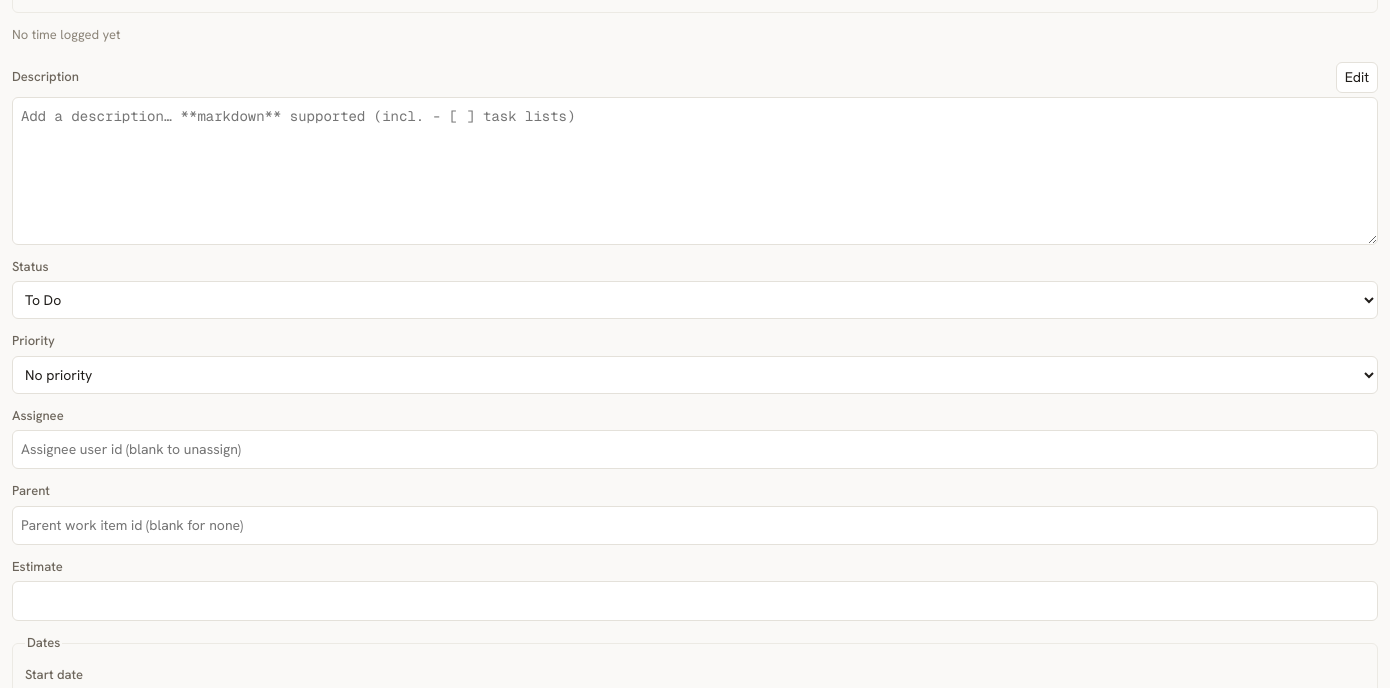
Test: ItemDetail › surfaces a kind conflict message on a 409 instead of clobbering
(page scrolled)
Select "High" in the dropdown labelled "Priority": (695, 375) x1=12 y1=356 x2=1378 y2=394
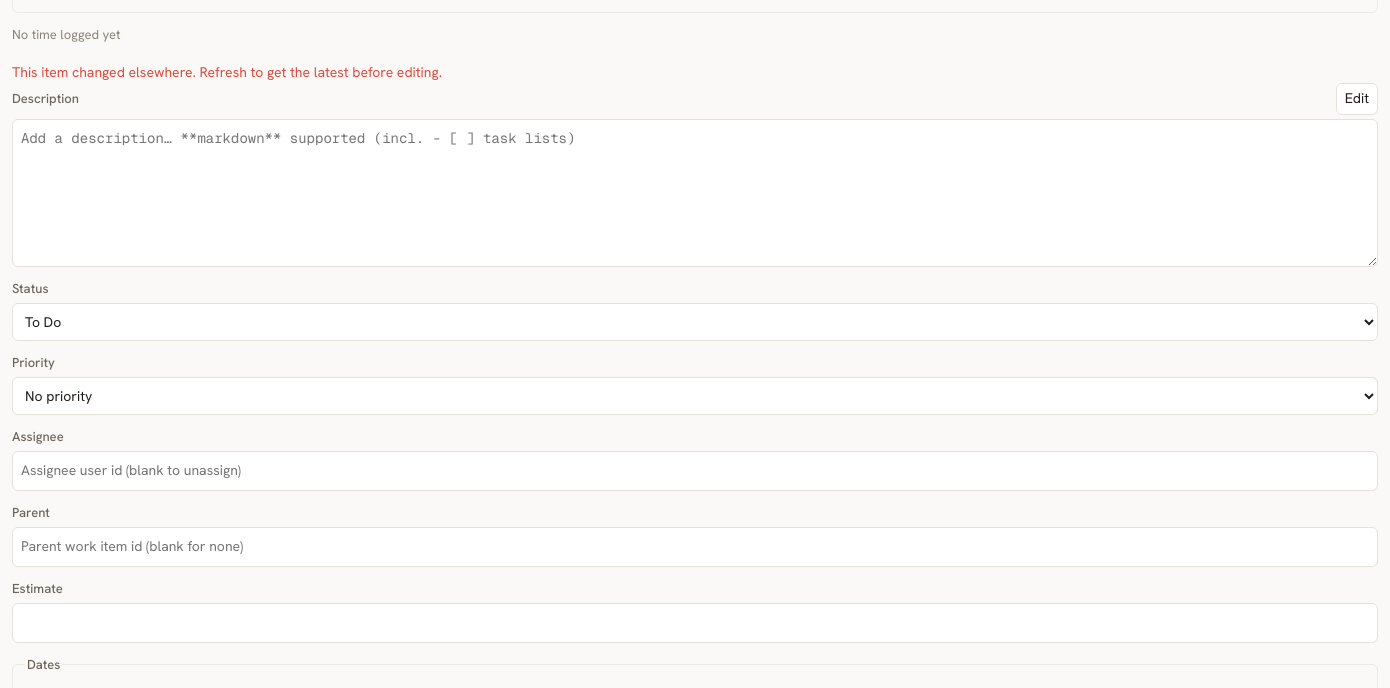
Expected: the message shows "changed elsewhere", x1=12 y1=62 x2=442 y2=80
